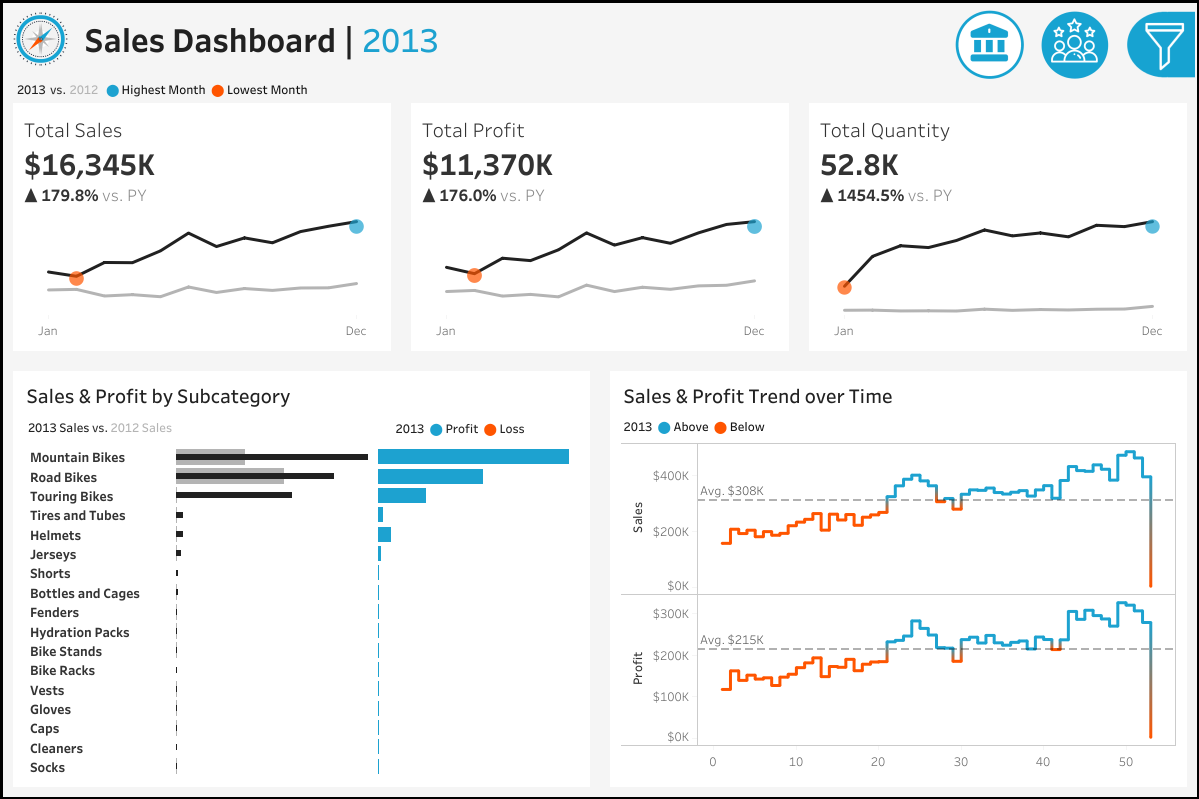

Layout of this report page (visuals, bound fields, positions):
{"tool":"tableau","page":{"name":"Sales DB","canvas":[1200,800],"ordinal":1},"visuals":[{"type":"image","param":"Image/Icon - Logo.png","box":[3,3,75,72]},{"type":"text","box":[78,3,877,72]},{"type":"dashboard-object","box":[948,6,85,78]},{"type":"dashboard-object","box":[1033,6,85,78]},{"type":"dashboard-object","box":[1118,6,85,78]},{"type":"blank","box":[952,12,235,96]},{"type":"worksheet","title":"Legend KPI","mark":"Automatic","box":[3,75,1194,29]},{"type":"worksheet","title":"KPI Sales","mark":"Line","rows":["Calculation_1412441436141113349"],"cols":["sls_order_dt"],"box":[3,104,398,258]},{"type":"worksheet","title":"KPI Profit","mark":"Line","rows":["Min/Max Sales (copy)_1412441436190756886"],"cols":["sls_order_dt"],"box":[401,104,398,258]},{"type":"worksheet","title":"KPI Qty","mark":"Line","rows":["Min/Max Sales (copy)_1412441436151320589"],"cols":["sls_order_dt"],"box":[799,104,398,258]},{"type":"text","box":[952,108,235,40]},{"type":"parameter","param":"[Parameters].[Parameter 1]","box":[952,148,235,61]},{"type":"blank","box":[952,209,235,45]},{"type":"text","box":[952,254,235,33]},{"type":"filter","title":"KPI Sales","param":"[federated.0sp6t8r19dilye15hb2kn0bc6ev9].[none:cat:nk]","box":[952,287,235,105]},{"type":"text","box":[20,379,563,40]},{"type":"text","box":[617,379,563,40]},{"type":"filter","title":"KPI Sales","param":"[federated.0sp6t8r19dilye15hb2kn0bc6ev9].[none:subcat:nk]","box":[952,392,235,61]},{"type":"worksheet","title":"Legend Subcat","mark":"Automatic","box":[20,419,369,30]},{"type":"text","box":[389,419,194,30]},{"type":"text","box":[617,419,563,29]},{"type":"worksheet","title":"Weekly Trend","mark":"Automatic","rows":["Calculation_1412441436133355520","Calculation_1412441436189753363"],"cols":["sls_order_dt"],"box":[617,448,563,332]},{"type":"worksheet","title":"Subcat","mark":"Bar","rows":["subcat","Calculation_1412441436195545113"],"cols":["CY Sales (copy)_1412441436133957633","Calculation_1412441436133355520","Calculation_1412441436189753363"],"box":[20,449,563,330.9]},{"type":"blank","box":[952,453,235,39]},{"type":"text","box":[952,492,235,33]},{"type":"filter","title":"KPI Sales","param":"[federated.0sp6t8r19dilye15hb2kn0bc6ev9].[none:cntry:nk]","box":[952,525,235,197]}]}

Visuals, with their boxes in screenshot pixels (x1, y1, x2, y2), scaled from the page's 1200x800 canvas onto the 1199x799 screenshot:
image: locate(3, 3, 78, 75)
text: locate(78, 3, 954, 75)
dashboard-object: locate(947, 6, 1032, 84)
dashboard-object: locate(1032, 6, 1117, 84)
dashboard-object: locate(1117, 6, 1198, 84)
blank: locate(951, 12, 1186, 108)
"Legend KPI" worksheet: locate(3, 75, 1196, 104)
"KPI Sales" worksheet (Line marks): locate(3, 104, 401, 362)
"KPI Profit" worksheet (Line marks): locate(401, 104, 798, 362)
"KPI Qty" worksheet (Line marks): locate(798, 104, 1196, 362)
text: locate(951, 108, 1186, 148)
parameter: locate(951, 148, 1186, 209)
blank: locate(951, 209, 1186, 254)
text: locate(951, 254, 1186, 287)
"KPI Sales" filter: locate(951, 287, 1186, 392)
text: locate(20, 379, 583, 418)
text: locate(616, 379, 1179, 418)
"KPI Sales" filter: locate(951, 392, 1186, 452)
"Legend Subcat" worksheet: locate(20, 418, 389, 448)
text: locate(389, 418, 583, 448)
text: locate(616, 418, 1179, 447)
"Weekly Trend" worksheet: locate(616, 447, 1179, 779)
"Subcat" worksheet (Bar marks): locate(20, 448, 583, 779)
blank: locate(951, 452, 1186, 491)
text: locate(951, 491, 1186, 524)
"KPI Sales" filter: locate(951, 524, 1186, 721)
